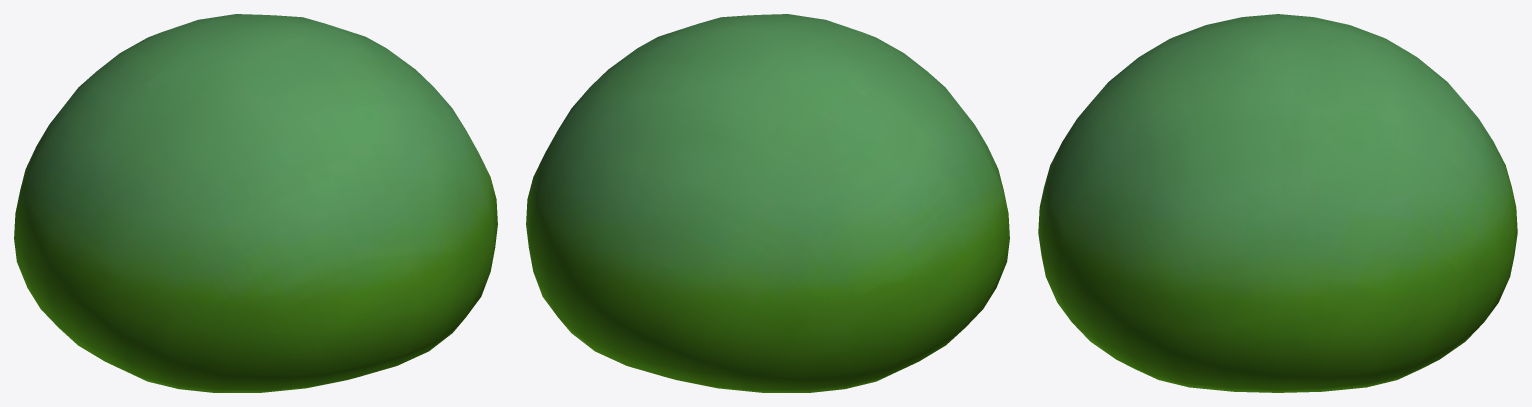
File: yakushimamonster001_4e3c1d.glb
3 views of the same model, side by side, from view 1: azimuth 30°, elevation 25°; view 2: azimuth 150°, elevation 25°; view 3: azimuth 270°, elevation 25° (orthographic).
Bounding box in the file's own units: 0.8271 × 0.5466 × 0.827.
Materials: 2 (2 with a texture image).
